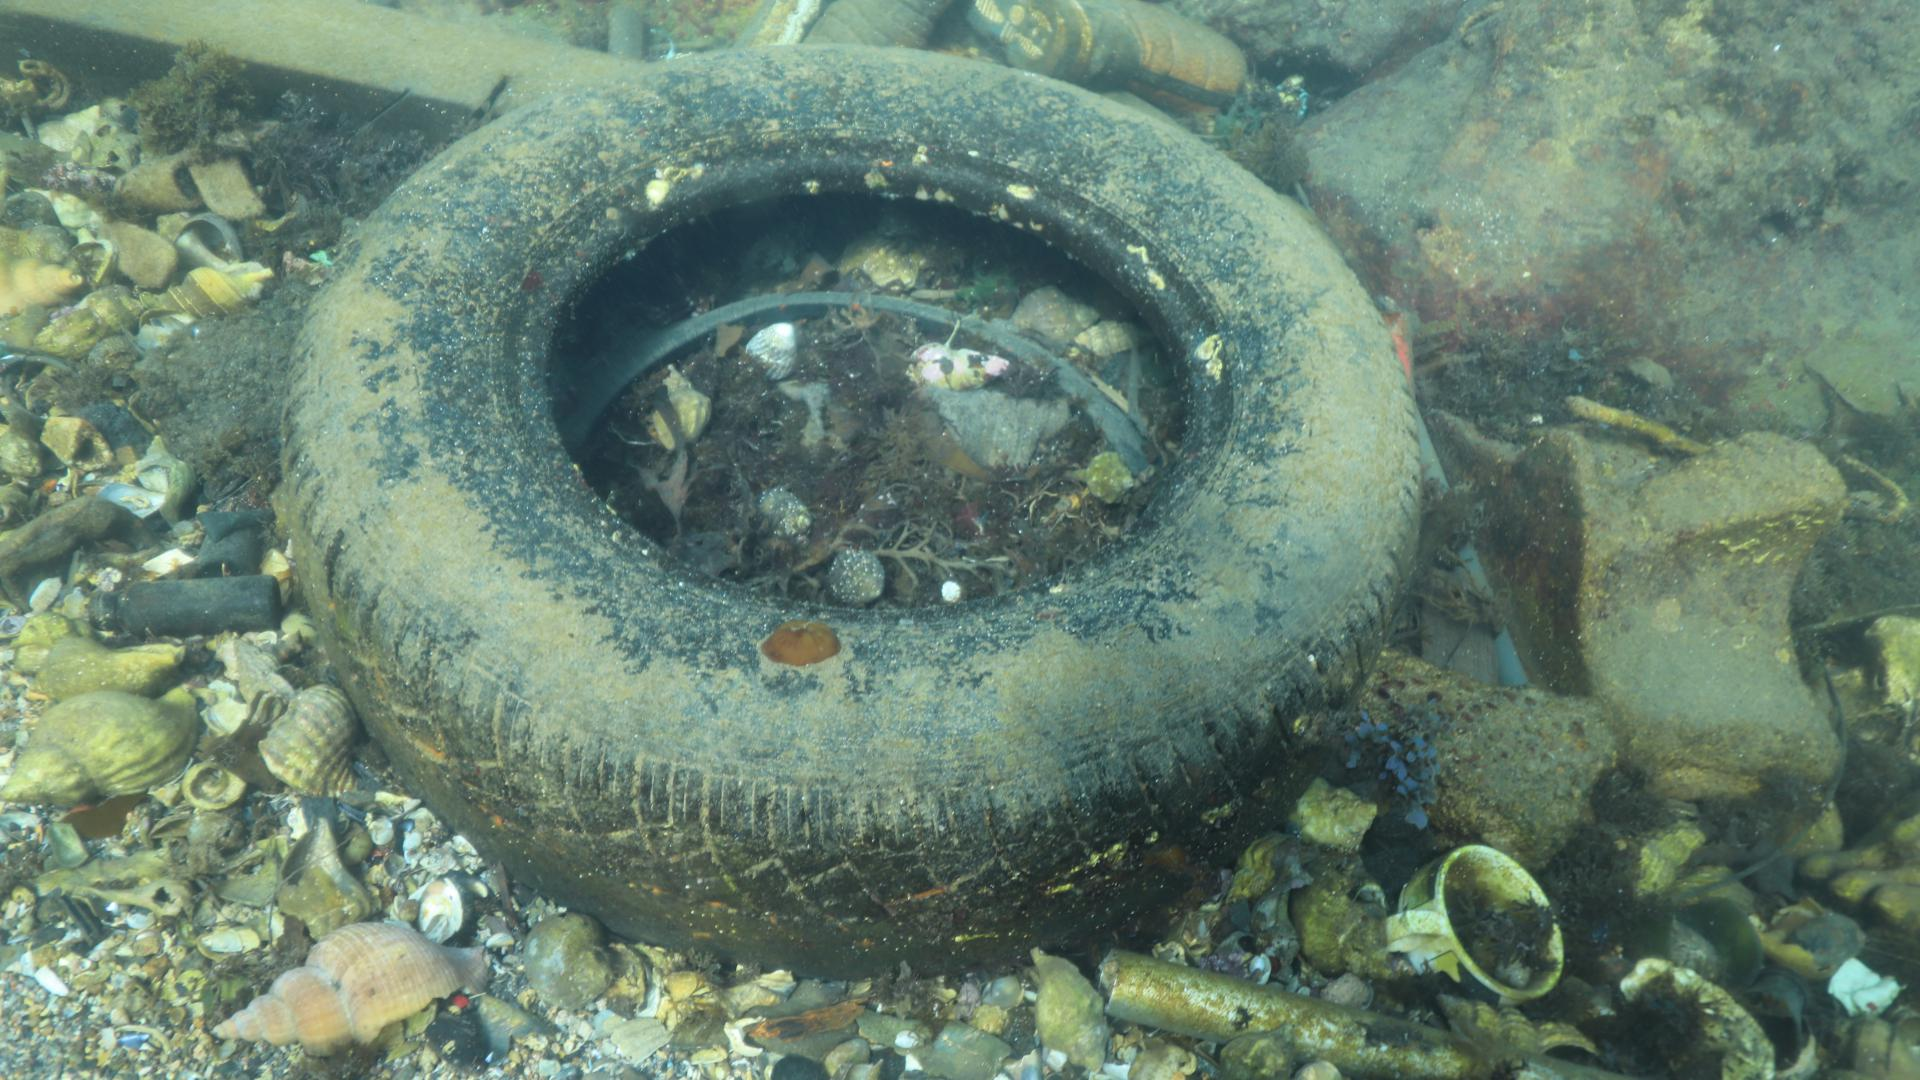tire: (278, 40, 1429, 990)
wood: (0, 0, 688, 138)
